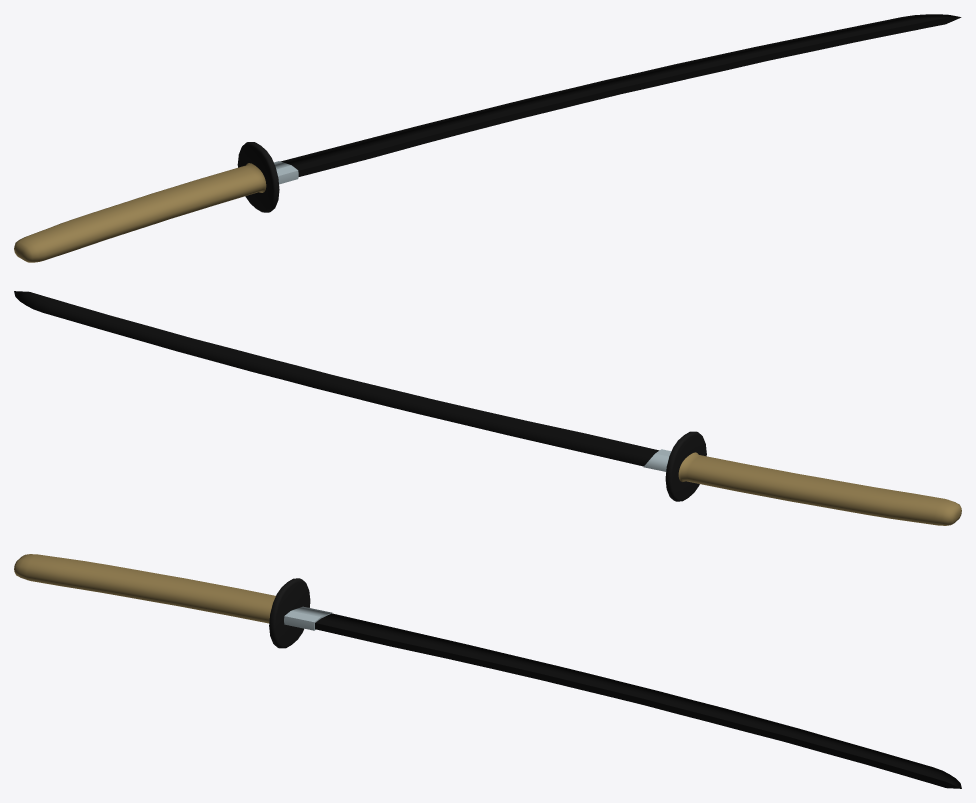
Rendered from katana.FBX.
3 views of the same model, one above another, from view 1: azimuth 30°, elevation 25°; view 2: azimuth 150°, elevation 25°; view 3: azimuth 330°, elevation 25° (orthographic).
Visible parts, largest first — view 1: katana; view 2: katana; view 3: katana.
Part boxes in pixels (x1,y1,x2,y2): katana: (14,14,961,262); katana: (14,291,961,525); katana: (14,554,961,788).
Bounding box in the file's own units: 31.4 × 2.61 × 2.01.
